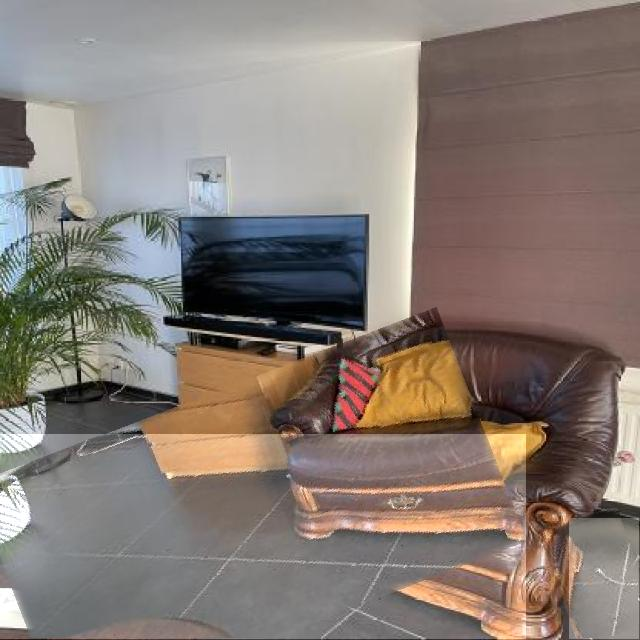floor: (0, 435, 526, 639), (569, 518, 639, 639)
